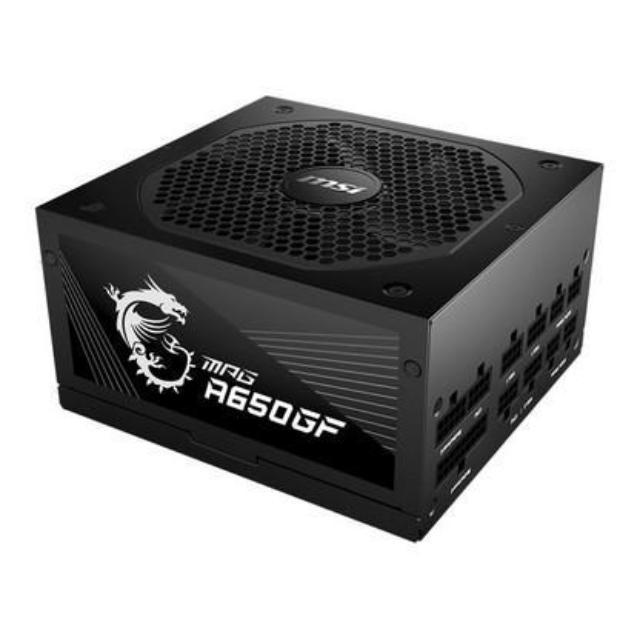PSU: (27, 76, 625, 548)
